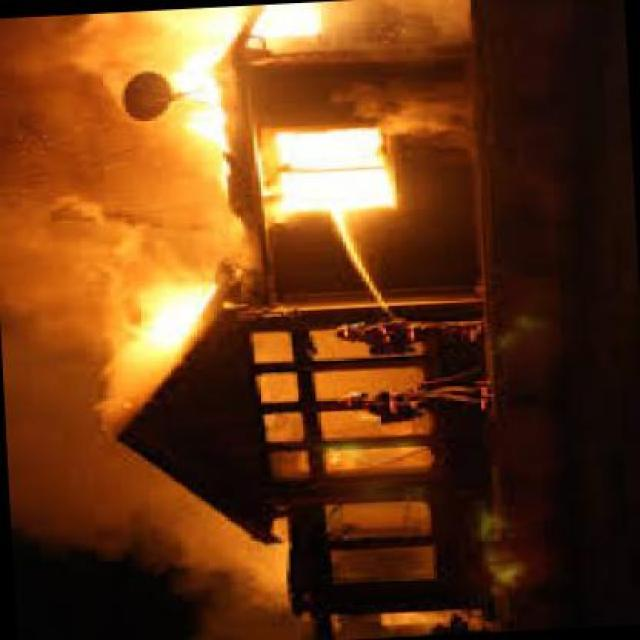Fire: (170, 12, 342, 146), (268, 124, 410, 212), (128, 278, 219, 352)
Smoke: (5, 24, 166, 278), (85, 455, 302, 640), (0, 268, 118, 560), (344, 3, 498, 129)
